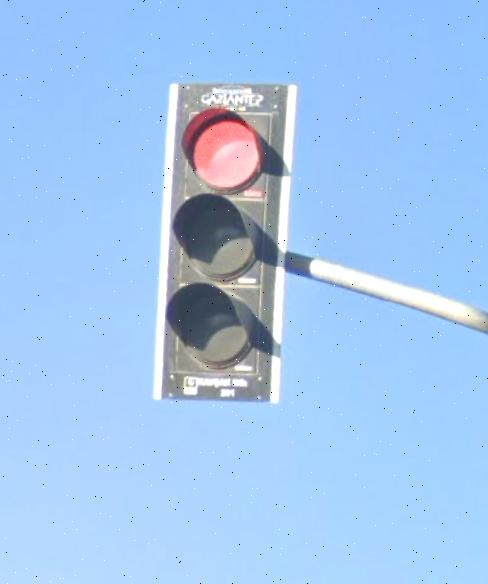redlight: (167, 85, 288, 408)
